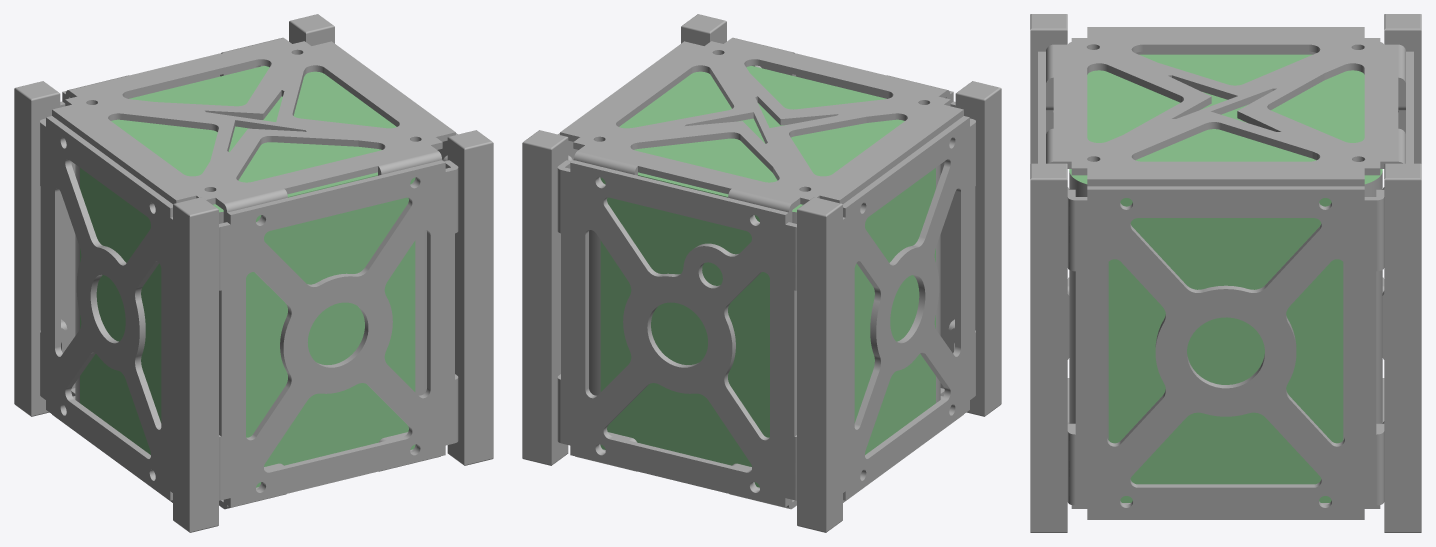
Rendered from frame.glb.
3 renders of one model, left to right at view 1: azimuth 30°, elevation 25°; view 2: azimuth 150°, elevation 25°; view 3: azimuth 270°, elevation 25°, orthographic. The views are drawn at different scales.
Parts seen in each view (by area): view 1: frame; view 2: frame; view 3: frame.
Boxes of the visible parts, bbox=[...] form: frame: bbox=[14, 14, 493, 532]; frame: bbox=[522, 14, 1001, 532]; frame: bbox=[1030, 14, 1421, 532].
Size of the model in its own units: 100 by 100 by 100.
